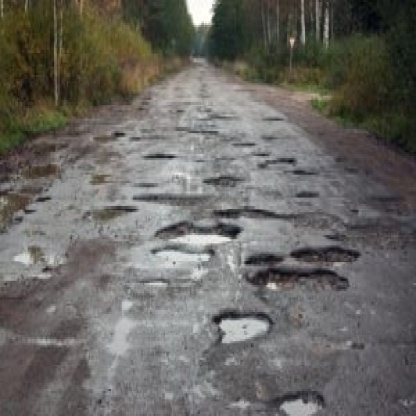pothole: (252, 265, 353, 298), (154, 215, 244, 243), (207, 307, 276, 340), (287, 240, 366, 264), (267, 386, 328, 416)
